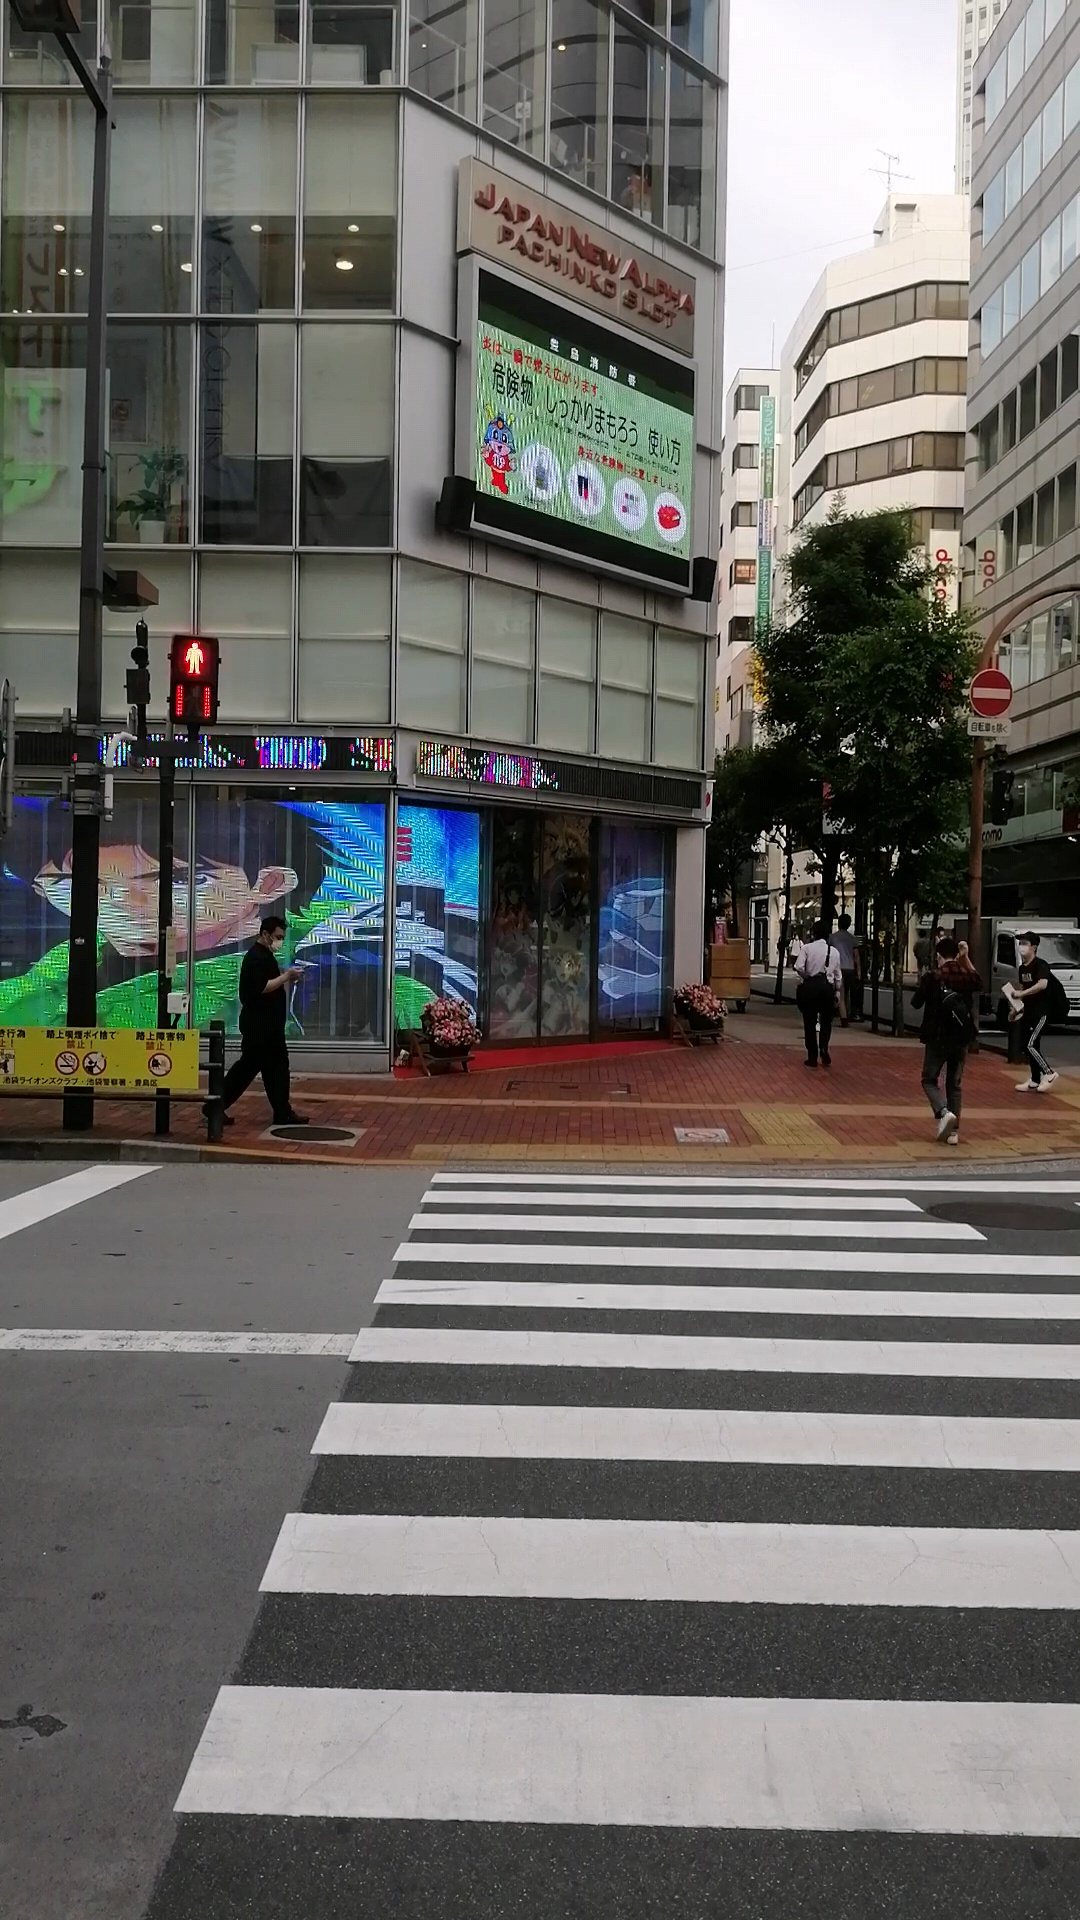red: (166, 633, 222, 727)
